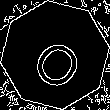O_NE: (22, 22, 88, 88)
